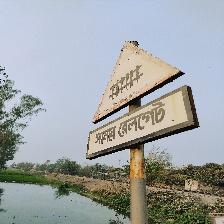Rail-crossing: (87, 40, 200, 160)
